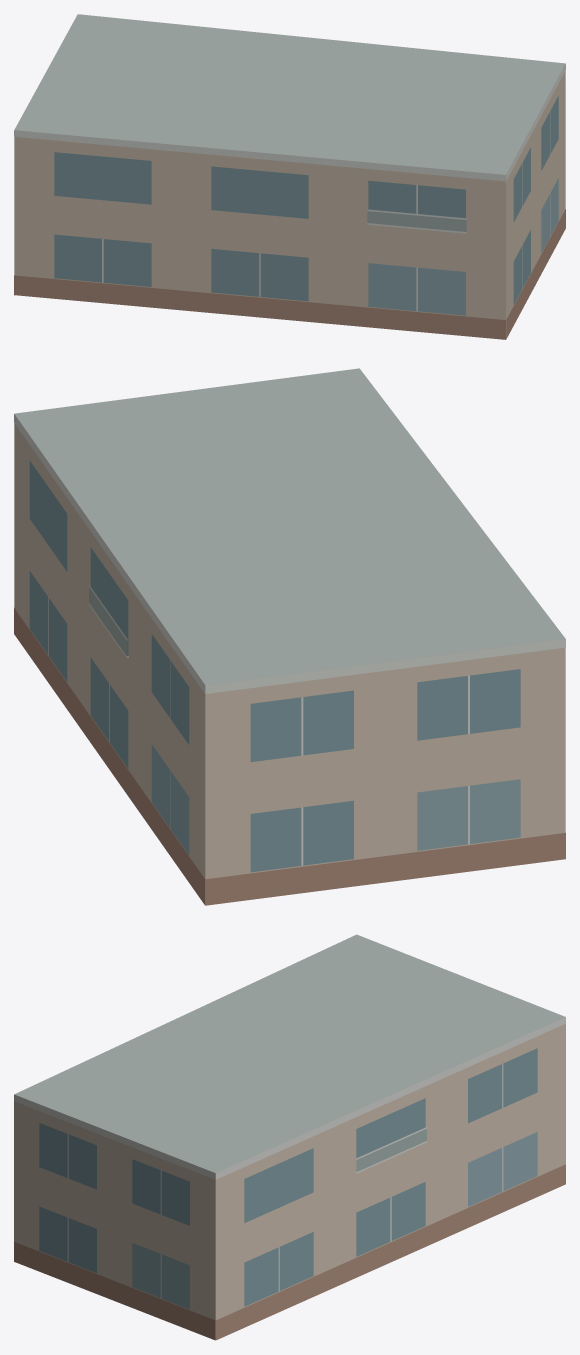
Rendered from survey-upis-32883688.glb.
3 renders of one model, top to bottom at view 1: azimuth 30°, elevation 25°; view 2: azimuth 150°, elevation 25°; view 3: azimuth 270°, elevation 25°, orthographic. The views are drawn at different scales.
Visible parts, largest first — view 1: survey-upis-32883688.tmp; view 2: survey-upis-32883688.tmp; view 3: survey-upis-32883688.tmp.
Boxes of the visible parts, <box> form: survey-upis-32883688.tmp: <box>14,14,565,339</box>; survey-upis-32883688.tmp: <box>14,368,565,905</box>; survey-upis-32883688.tmp: <box>14,934,565,1340</box>.
Bounding box in the file's own units: 18.68 × 6.1 × 18.24.
